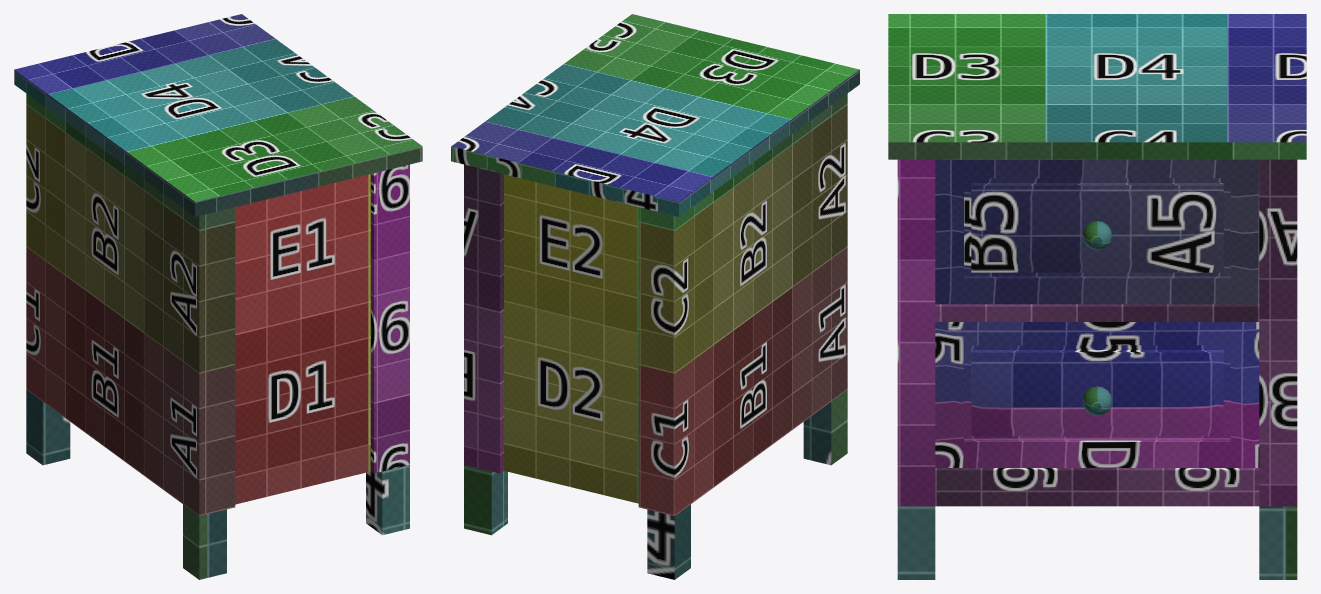
File: sideboard.obj
The picture shows the model from 3 angles, left to right: view 1: azimuth 30°, elevation 25°; view 2: azimuth 150°, elevation 25°; view 3: azimuth 270°, elevation 25°; orthographic projection. The views are drawn at different scales.
Parts seen in each view (by area): view 1: Cube.004_Cube.002; view 2: Cube.004_Cube.002; view 3: Cube.004_Cube.002.
Boxes of the visible parts, x1=… form: Cube.004_Cube.002: x1=14, y1=14, x2=422, y2=579; Cube.004_Cube.002: x1=451, y1=14, x2=859, y2=579; Cube.004_Cube.002: x1=888, y1=14, x2=1306, y2=579.
Size of the model in its own units: 0.4308 by 0.66 by 0.5653.
1 material, 1 textured.
